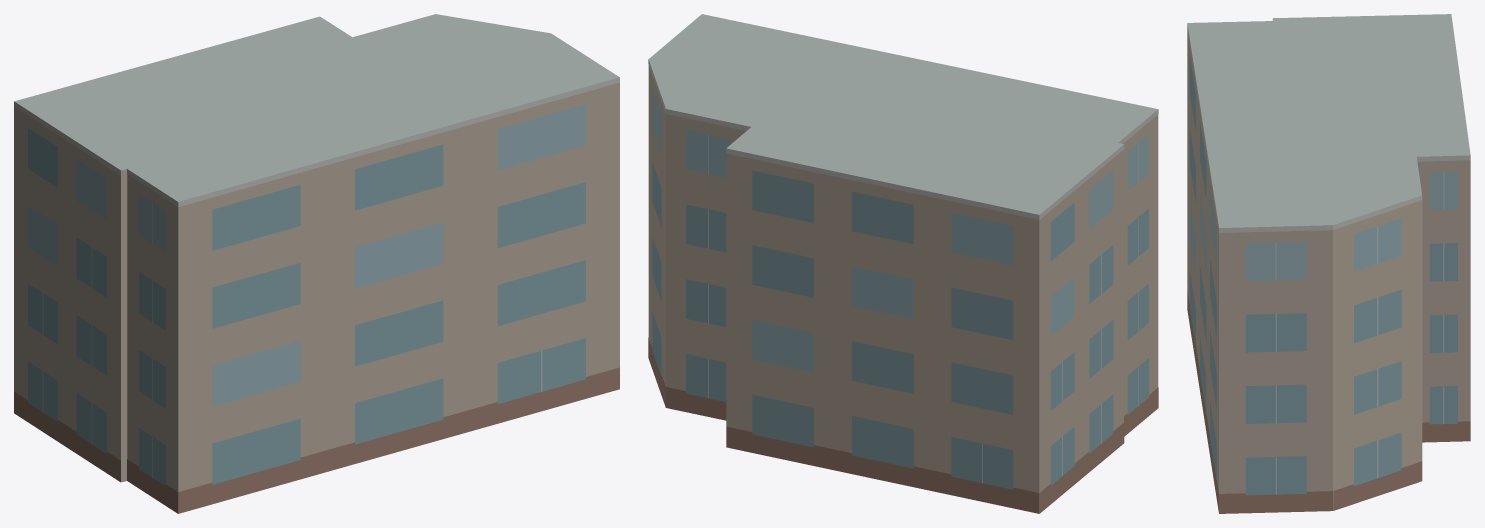
The model's file is survey-upis-32705022.glb.
3 views of the same model, side by side, from view 1: azimuth 30°, elevation 25°; view 2: azimuth 150°, elevation 25°; view 3: azimuth 270°, elevation 25° (orthographic). The views are drawn at different scales.
Visible parts, largest first — view 1: survey-upis-32705022.tmp; view 2: survey-upis-32705022.tmp; view 3: survey-upis-32705022.tmp.
Part boxes in pixels (x1,y1,x2,y2): survey-upis-32705022.tmp: (14, 14, 619, 513); survey-upis-32705022.tmp: (648, 14, 1158, 513); survey-upis-32705022.tmp: (1187, 14, 1470, 513).
Bounding box in the file's own units: 23.15 × 14.4 × 12.95.
